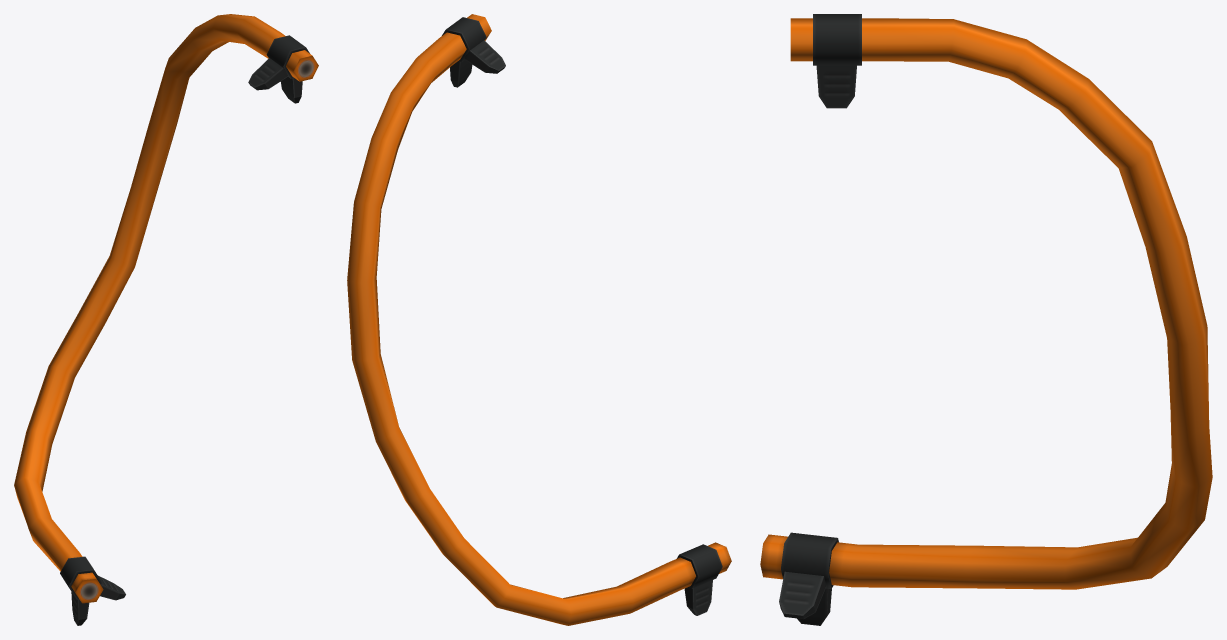
The model's file is jsf_GasRange_11d.fbx.
The picture shows the model from 3 angles, left to right: view 1: azimuth 30°, elevation 25°; view 2: azimuth 150°, elevation 25°; view 3: azimuth 270°, elevation 25°; orthographic projection. The views are drawn at different scales.
Parts seen in each view (by area): view 1: GasHose; view 2: GasHose; view 3: GasHose.
Boxes of the visible parts, <box> form: GasHose: <box>14,14,318,625</box>; GasHose: <box>347,14,731,625</box>; GasHose: <box>760,14,1212,625</box>.
Size of the model in its own units: 17.57 by 34.5 by 18.54.
